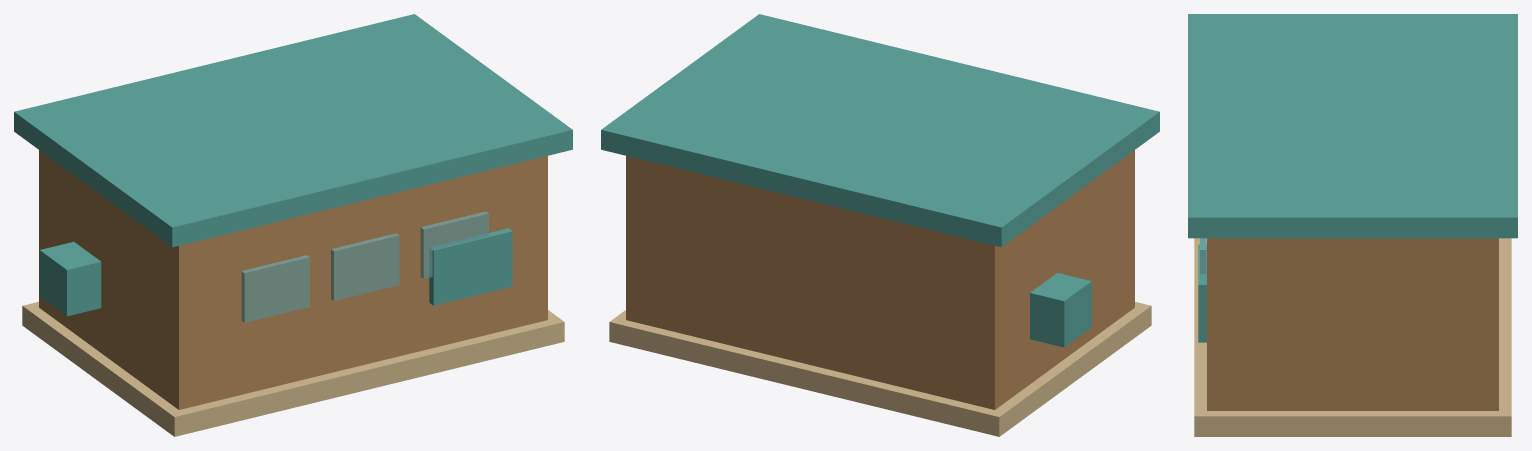
File: SeedLaboratory.glb
3 renders of one model, left to right at view 1: azimuth 30°, elevation 25°; view 2: azimuth 150°, elevation 25°; view 3: azimuth 270°, elevation 25°, orthographic. The views are drawn at different scales.
Parts seen in each view (by area): view 1: hand-pump-static-seed-lab-roof, hand-pump-static-seed-lab-wall, hand-pump-static-seed-lab-stone, hand-pump-static-seed-lab-glass; view 2: hand-pump-static-seed-lab-wall, hand-pump-static-seed-lab-roof, hand-pump-static-seed-lab-stone; view 3: hand-pump-static-seed-lab-roof, hand-pump-static-seed-lab-wall, hand-pump-static-seed-lab-stone.
Boxes of the visible parts, x1,y1,x2,y2 form: hand-pump-static-seed-lab-roof: [14, 14, 572, 316]; hand-pump-static-seed-lab-wall: [39, 150, 547, 409]; hand-pump-static-seed-lab-stone: [22, 301, 564, 436]; hand-pump-static-seed-lab-glass: [241, 211, 488, 322]; hand-pump-static-seed-lab-wall: [626, 150, 1134, 409]; hand-pump-static-seed-lab-roof: [601, 14, 1159, 347]; hand-pump-static-seed-lab-stone: [609, 301, 1151, 436]; hand-pump-static-seed-lab-roof: [1188, 14, 1517, 342]; hand-pump-static-seed-lab-wall: [1207, 238, 1498, 410]; hand-pump-static-seed-lab-stone: [1194, 238, 1511, 436].
Bounding box in the file's own units: 3.98 × 1.93 × 2.6.
